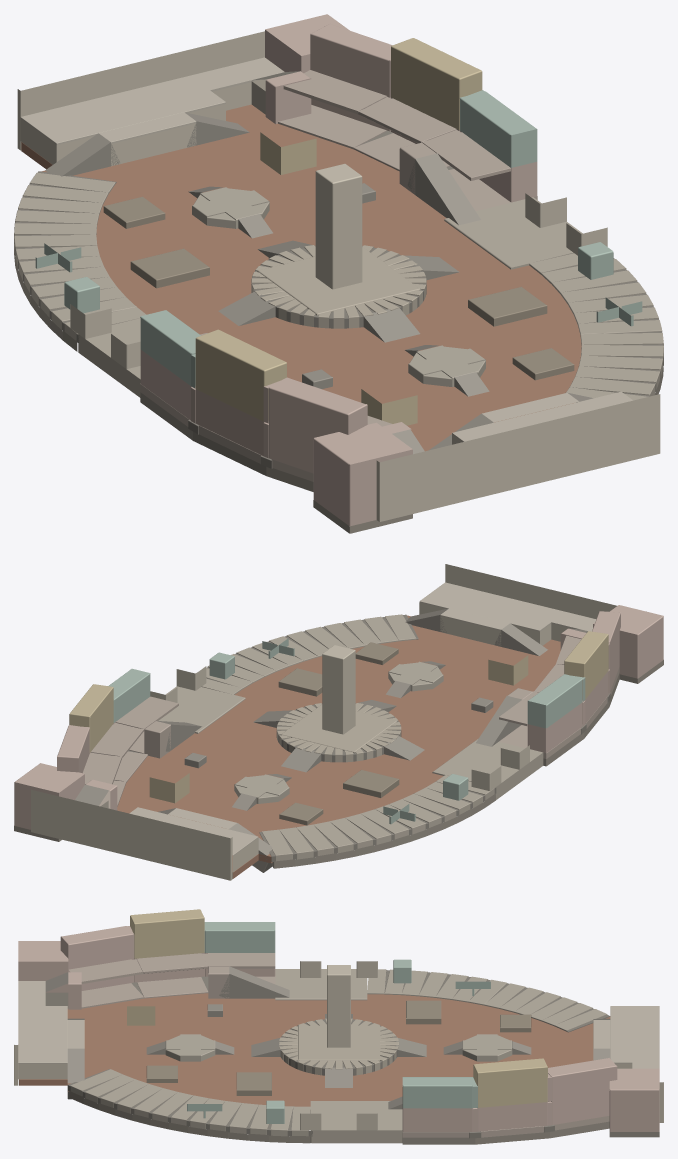
The model's file is tidewater_turf_level.glb.
3 renders of one model, top to bottom at view 1: azimuth 30°, elevation 25°; view 2: azimuth 150°, elevation 25°; view 3: azimuth 270°, elevation 25°, orthographic. The views are drawn at different scales.
Visible parts, largest first — view 1: PaintableStage; view 2: PaintableStage; view 3: PaintableStage.
Part boxes in pixels (bbox=[...]): PaintableStage: bbox=[14, 14, 663, 533]; PaintableStage: bbox=[14, 564, 663, 880]; PaintableStage: bbox=[14, 909, 663, 1144].
Bounding box in the file's own units: 55.17 × 16.17 × 92.
